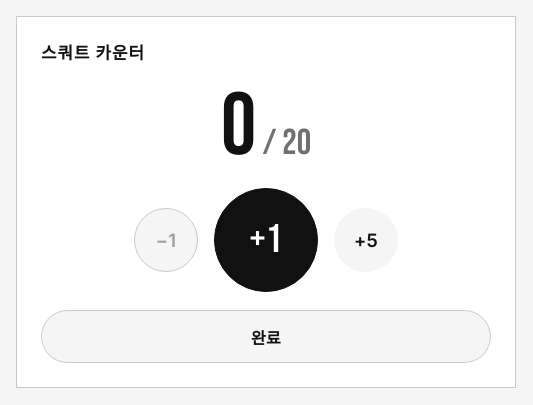
Test: −1 is enabled when the typed value is above zero even if the count is zero
This screenshot has width=533, height=405.
Click the button named "완료 횟수 0": (266, 127) 205,84 -> 327,171
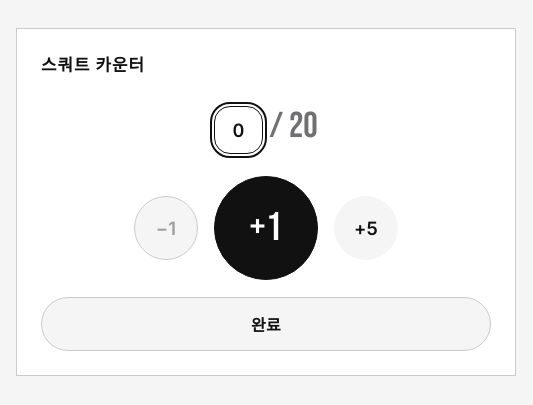
Replace the text in the field with id "squat-done-reps" with "5": (239, 130) 214,106 -> 263,154
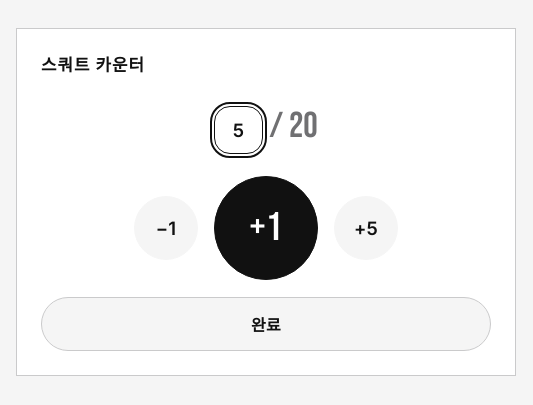
Check: the button named "1회 빼기" is enabled
Click the button named "1회 빼기": (166, 228) 134,196 -> 198,260
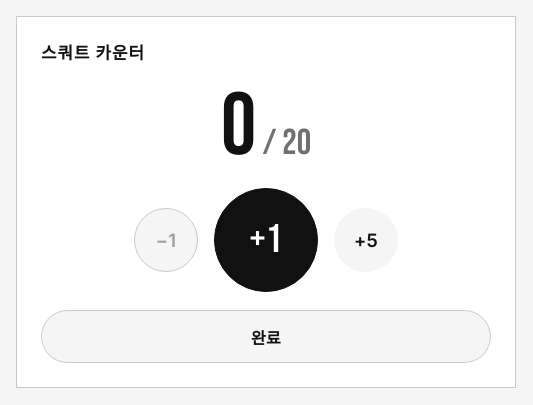
Check: the field with id "squat-done-reps" is gone
